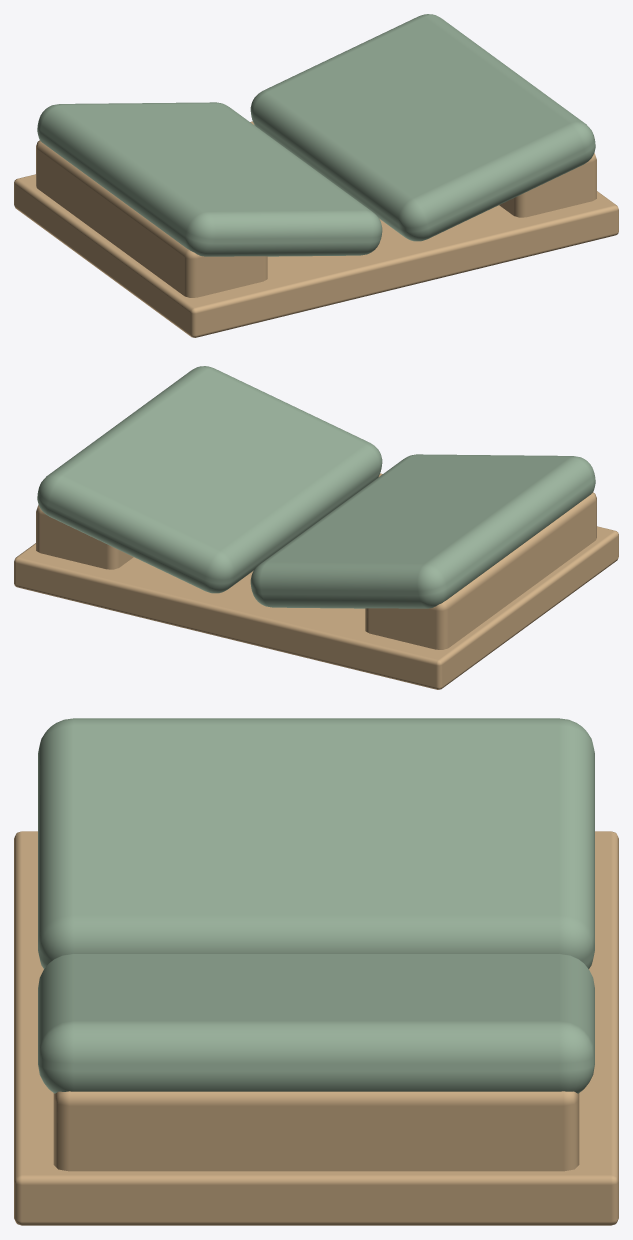
File: public-library-and-reading-garden-public-library-and-r-56636d3f__30936.glb
3 renders of one model, top to bottom at view 1: azimuth 30°, elevation 25°; view 2: azimuth 150°, elevation 25°; view 3: azimuth 270°, elevation 25°, orthographic. The views are drawn at different scales.
Parts seen in each view (by area): view 1: public-library-and-reading-garden-book-repair-cradle; view 2: public-library-and-reading-garden-book-repair-cradle; view 3: public-library-and-reading-garden-book-repair-cradle.
Boxes of the visible parts, x1,y1,x2,y2 form: public-library-and-reading-garden-book-repair-cradle: [14, 14, 618, 337]; public-library-and-reading-garden-book-repair-cradle: [14, 366, 618, 689]; public-library-and-reading-garden-book-repair-cradle: [14, 718, 618, 1225].
Bounding box in the file's own units: 0.52 × 0.1255 × 0.38.
